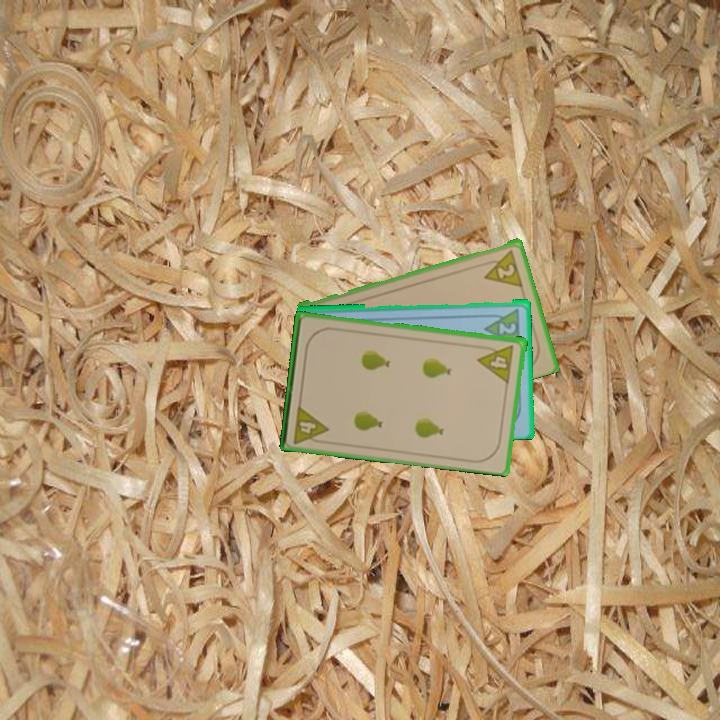2p: (478, 245, 525, 289), (496, 317, 519, 337)
4p: (290, 402, 332, 447), (475, 341, 516, 384)
